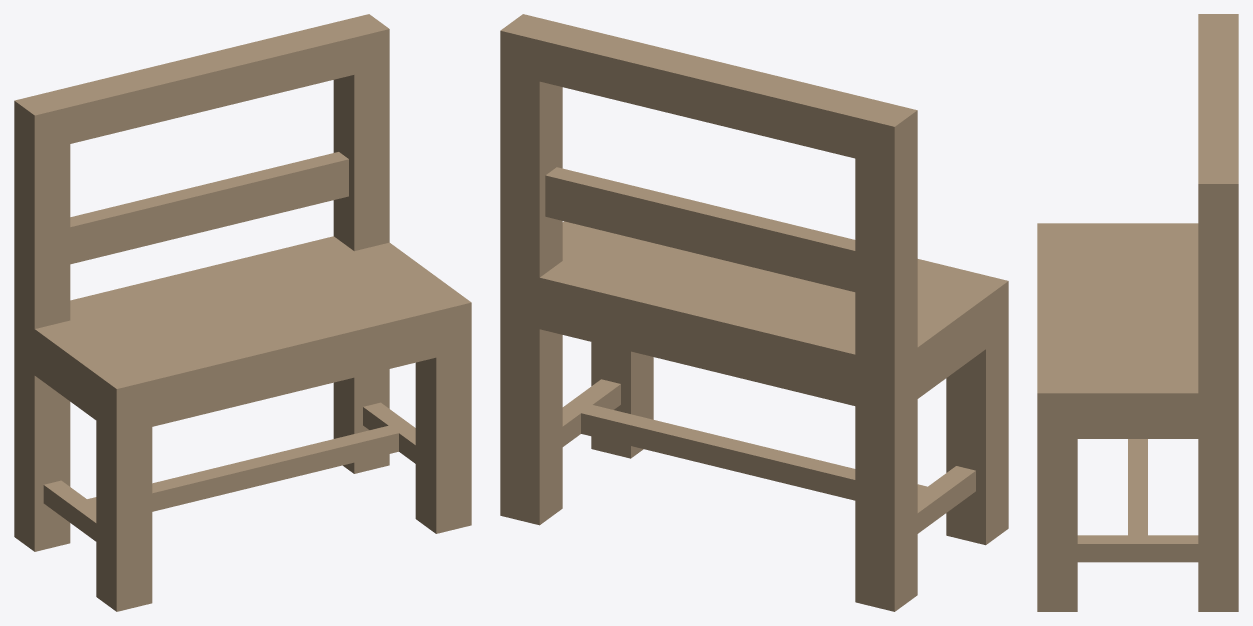
The picture shows the model from 3 angles, left to right: view 1: azimuth 30°, elevation 25°; view 2: azimuth 150°, elevation 25°; view 3: azimuth 270°, elevation 25°; orthographic projection. The views are drawn at different scales.
Visible parts, largest first — view 1: model; view 2: model; view 3: model.
Part boxes in pixels (box(x1,y1,x2,y2)): model: box(14, 14, 471, 611); model: box(500, 14, 1008, 611); model: box(1037, 14, 1238, 611).
Size of the model in its own units: 0.8 by 0.94 by 0.4.
